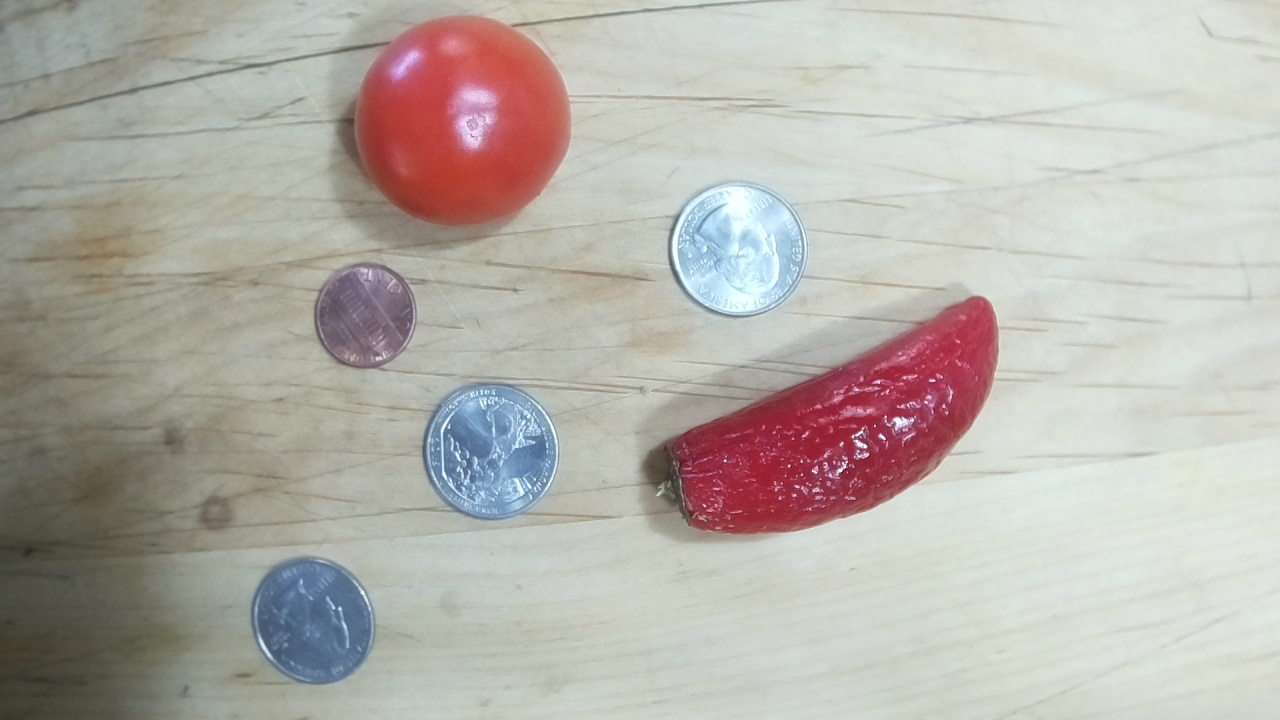penny: (314, 263, 416, 370)
quarter: (666, 181, 812, 319), (422, 379, 558, 520), (251, 553, 377, 688)
